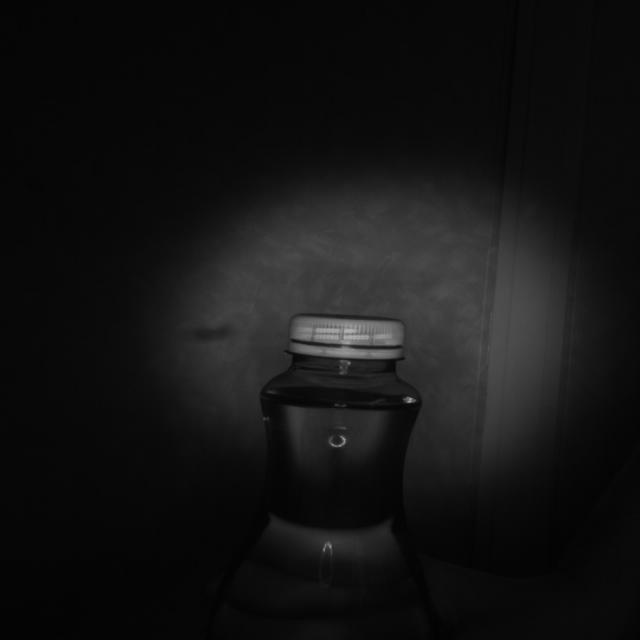Not Good: (286, 309, 406, 362)
